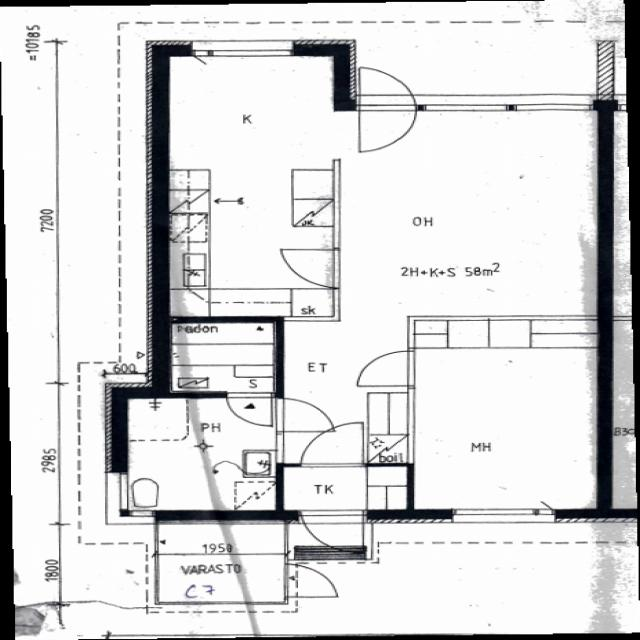door: (351, 62, 419, 154), (294, 509, 368, 554), (294, 424, 365, 469), (352, 346, 416, 390), (277, 246, 340, 288), (273, 395, 335, 435), (284, 560, 344, 600), (221, 391, 282, 429), (518, 21, 538, 36), (520, 1, 538, 14)
window: (442, 504, 549, 524), (200, 41, 300, 62), (417, 98, 509, 116), (508, 98, 593, 117), (105, 468, 134, 516)
zone: (338, 109, 596, 326), (166, 54, 335, 310), (408, 323, 598, 516), (117, 394, 280, 516), (152, 523, 273, 605), (165, 320, 279, 394), (278, 464, 414, 514), (536, 0, 586, 22)
